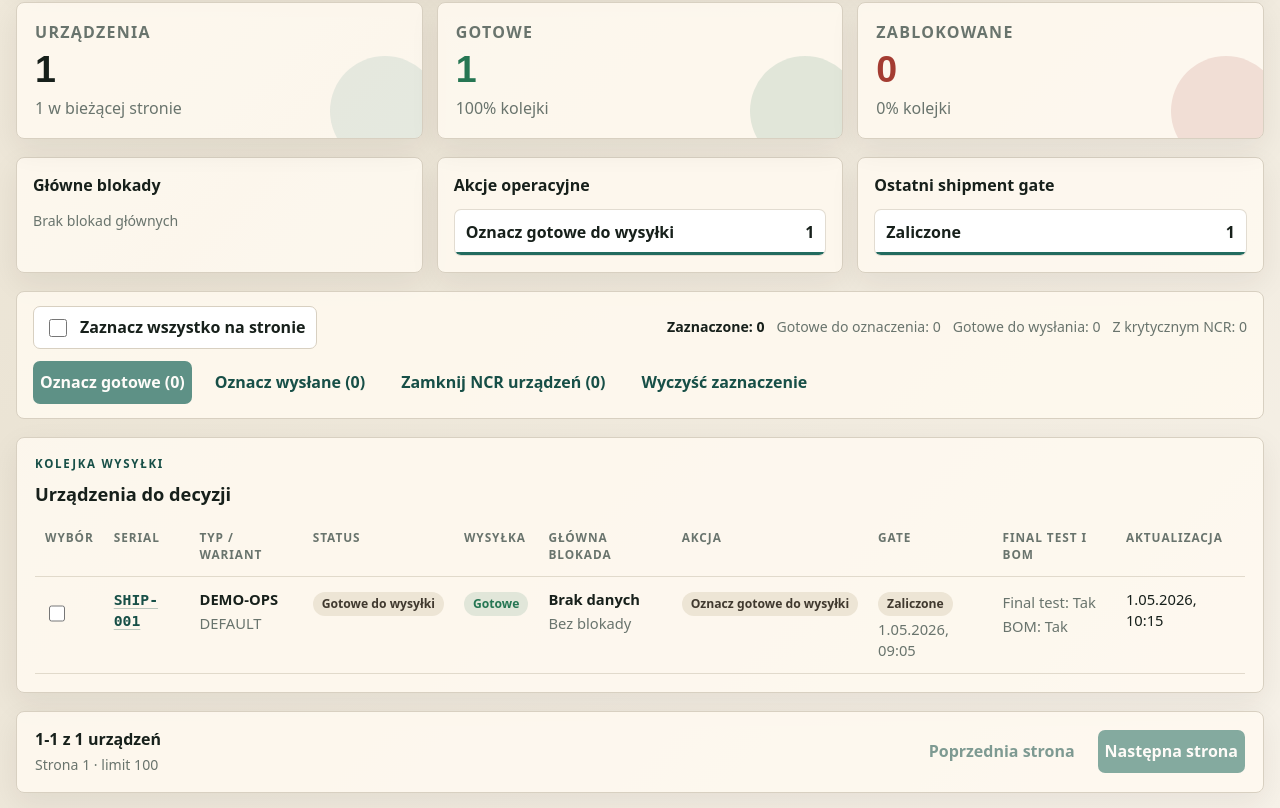
App › marks ready device as shipped from the details drawer
This screenshot has width=1280, height=808.
(page scrolled)
Click the button "SHIP-001" at (147, 610), box [114, 588, 180, 631]
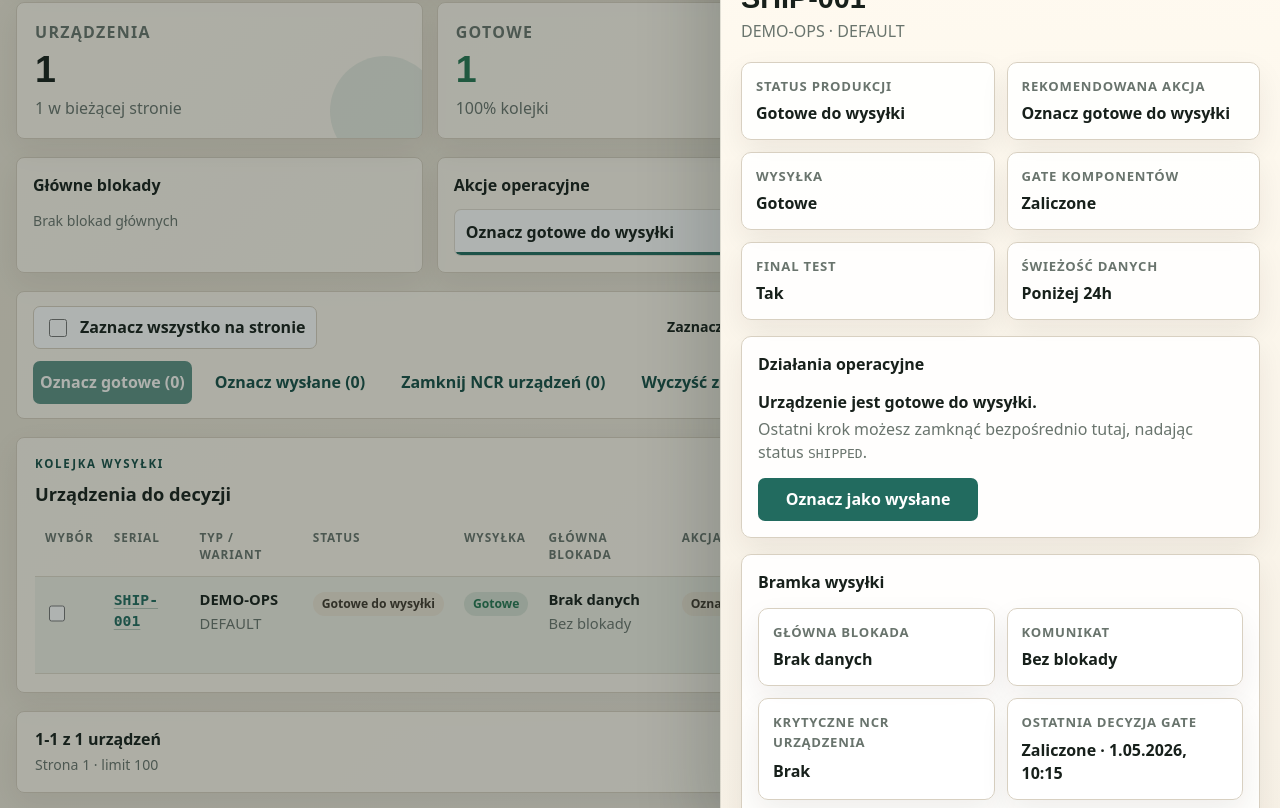
Click the button "Oznacz jako wysłane" at (868, 500), box [758, 478, 978, 521]
(page scrolled)
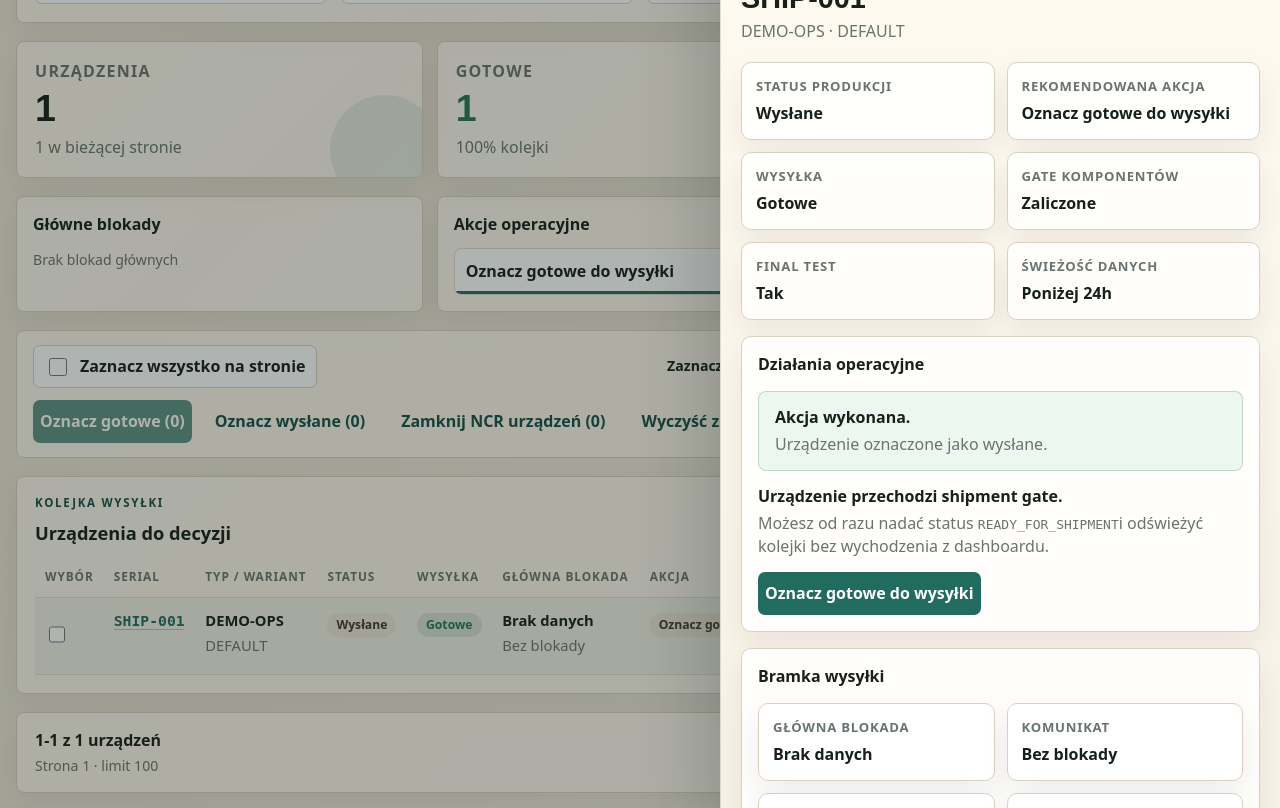
Check: the text "Urządzenie oznaczone jako wysłane." is shown, box [775, 433, 1047, 455]
Check: the button "Oznacz jako wysłane" is gone
